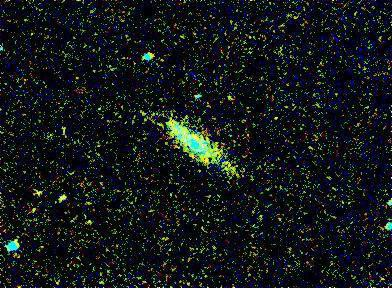star: (49, 182, 79, 212)
